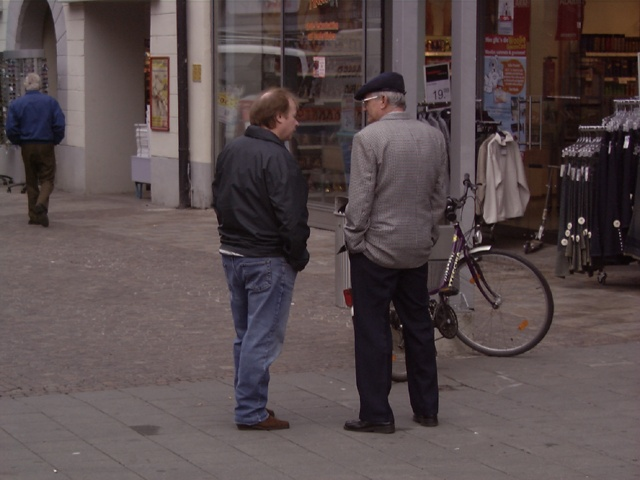person: (344, 81, 450, 431), (213, 83, 304, 429), (5, 71, 67, 227)
